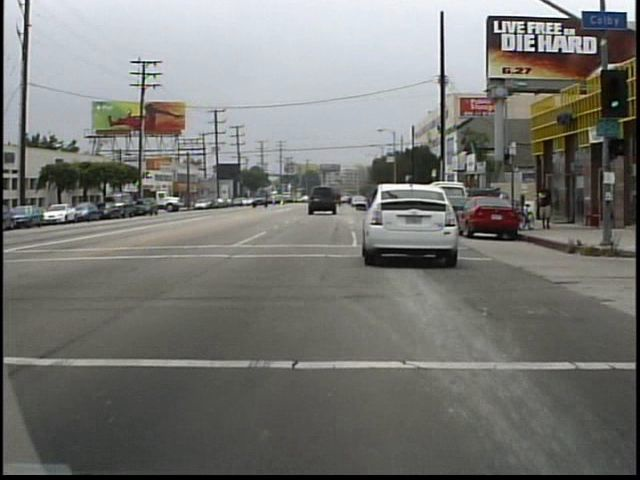person: (535, 177, 557, 233)
